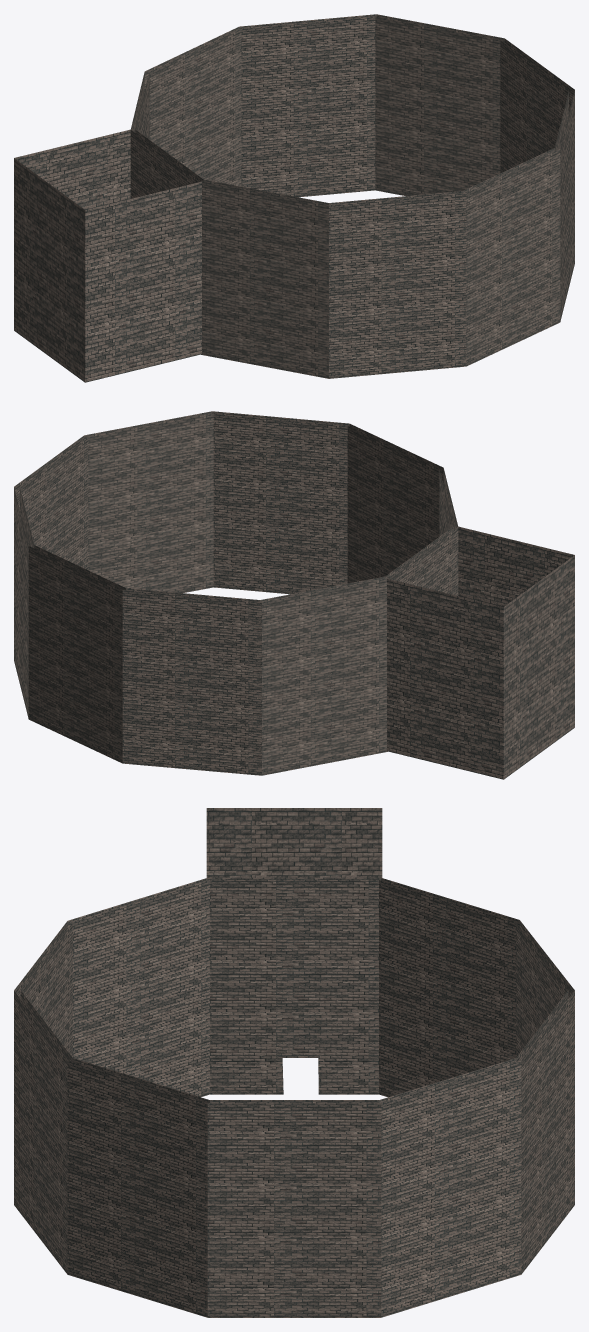
Rendered from New_Wall.obj.
3 renders of one model, top to bottom at view 1: azimuth 30°, elevation 25°; view 2: azimuth 150°, elevation 25°; view 3: azimuth 270°, elevation 25°, orthographic. The views are drawn at different scales.
Visible parts, largest first — view 1: New_Wall; view 2: New_Wall; view 3: New_Wall.
Boxes of the visible parts, <box> form: New_Wall: <box>14,14,574,382</box>; New_Wall: <box>14,411,574,779</box>; New_Wall: <box>14,808,574,1317</box>.
Bounding box in the file's own units: 605 × 205 × 486.
1 material, 1 textured.
